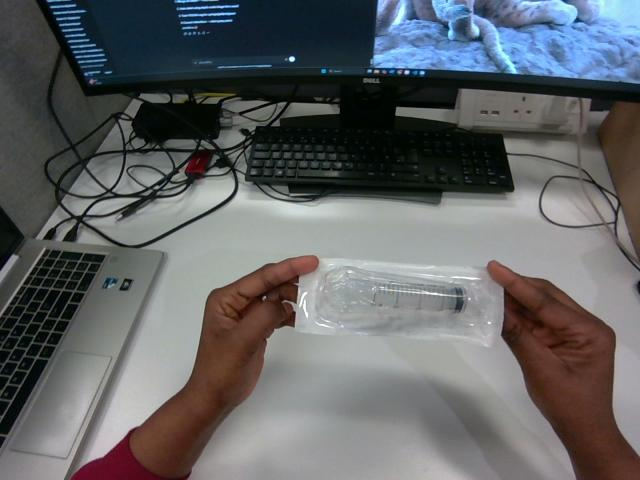syringe: (296, 259, 503, 345)
